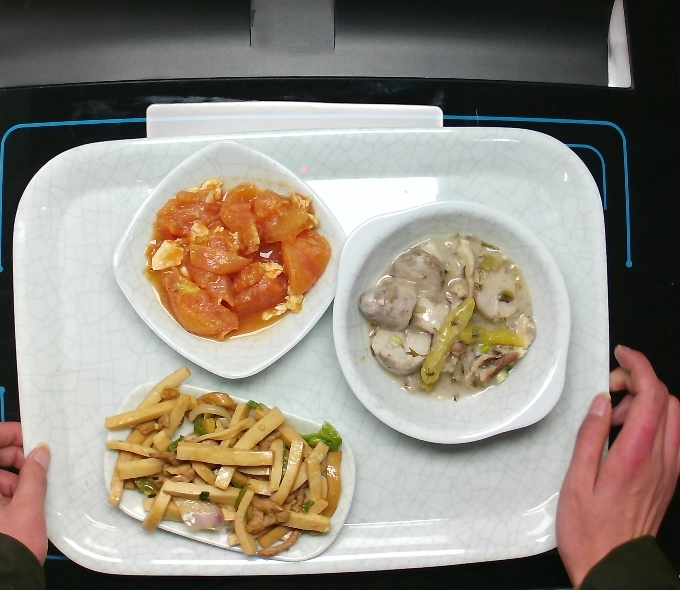wcq-FanQieChaoDan: (141, 175, 332, 344)
wcq-QianYeDouFu: (103, 368, 354, 560)
wcq-YangYu: (357, 224, 543, 412)
